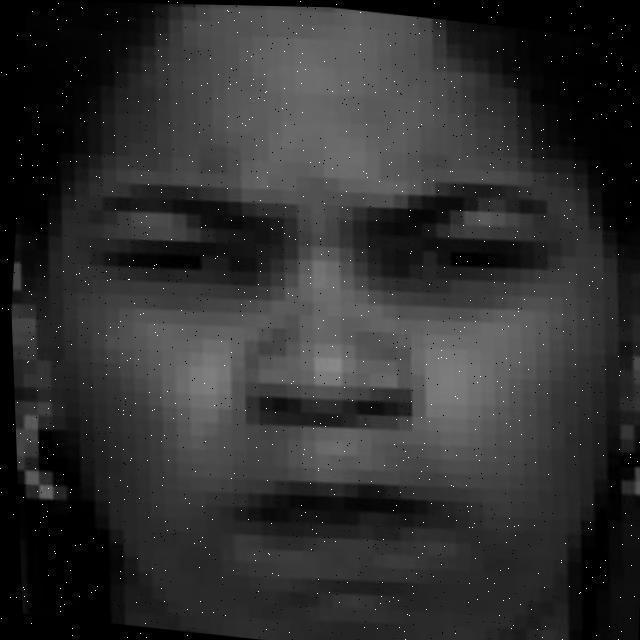Disgust: (52, 62, 628, 622)
